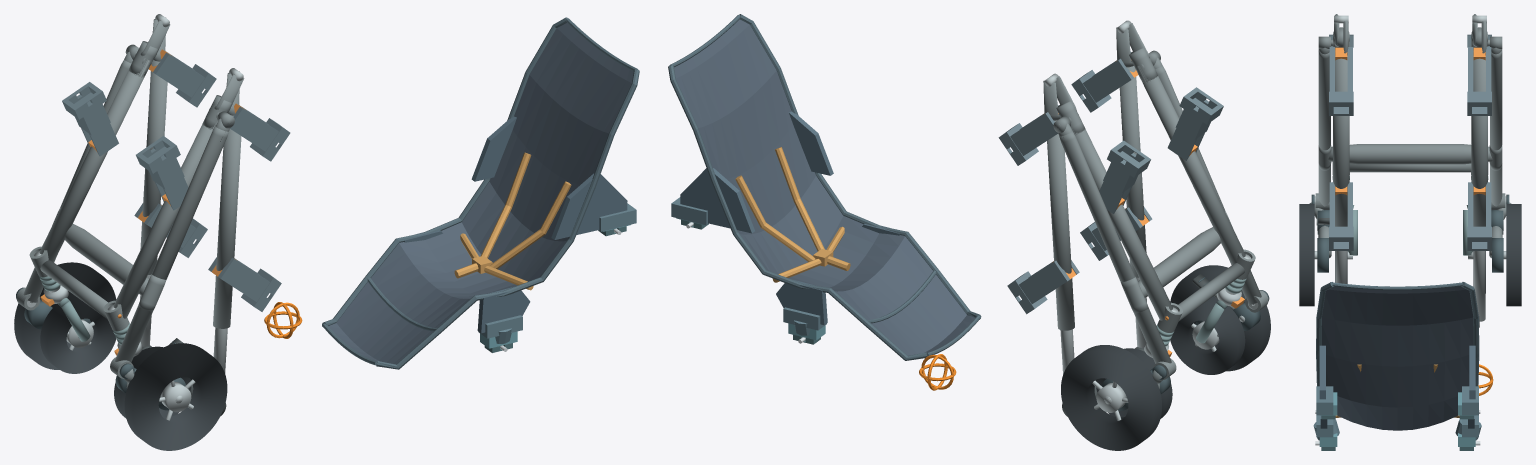
The model's file is S01_w380_state3_wheel_S.glb.
3 views of the same model, side by side, from view 1: azimuth 30°, elevation 25°; view 2: azimuth 150°, elevation 25°; view 3: azimuth 270°, elevation 25° (orthographic). The views are drawn at different scales.
Parts seen in each view (by area): view 1: S01_Cabin, RL_tire.013, V46_rear_leg_-1, FR_tire.013, main_upper_-1.001, main_lower_1.001, main_lower_-1.001, RR_tire.013, Universal_Cabin_Receiver_L_1, Universal_Cabin_Receiver_L_-1, main_upper_1.001, Universal_Cabin_Receiver_H_-1 (+11 smaller); view 2: S01_Cabin, RR_tire.013, V46_rear_leg_1, FL_tire.013, main_upper_1.001, main_lower_-1.001, main_lower_1.001, Universal_Cabin_Receiver_L_-1, Universal_Cabin_Receiver_L_1, main_upper_-1.001, RL_tire.013, Universal_Cabin_Receiver_H_1 (+11 smaller); view 3: S01_Cabin, V46_rearbar, main_upper_1.001, main_upper_-1.001, RL_tire.013, RR_tire.013, V46_rear_leg_1, V46_rear_leg_-1, S01_Cabin_MidDocks, S01_Cabin_Mount_H, Universal_Cabin_Receiver_M_1, Universal_Cabin_Receiver_M_-1 (+12 smaller).
Part boxes in pixels (x1,y1,x2,y2): S01_Cabin: (322, 17, 639, 369); RL_tire.013: (124, 343, 227, 450); V46_rear_leg_-1: (115, 126, 228, 362); FR_tire.013: (40, 294, 116, 373); main_upper_-1.001: (213, 115, 241, 328); main_lower_1.001: (39, 59, 149, 262); main_lower_-1.001: (113, 121, 217, 318); RR_tire.013: (14, 262, 116, 369); Universal_Cabin_Receiver_L_1: (62, 82, 118, 156); Universal_Cabin_Receiver_L_-1: (136, 136, 188, 210); main_upper_1.001: (140, 60, 167, 274); Universal_Cabin_Receiver_H_-1: (208, 257, 281, 311); S01_Cabin: (668, 14, 981, 360); RR_tire.013: (1061, 345, 1161, 450); V46_rear_leg_1: (1059, 131, 1171, 363); FL_tire.013: (1170, 297, 1245, 374); main_upper_1.001: (1047, 120, 1074, 330); main_lower_-1.001: (1137, 66, 1245, 264); main_lower_1.001: (1070, 126, 1172, 320); Universal_Cabin_Receiver_L_-1: (1167, 87, 1223, 160); Universal_Cabin_Receiver_L_1: (1099, 140, 1150, 213); main_upper_-1.001: (1119, 66, 1146, 277); RL_tire.013: (1170, 265, 1270, 371); Universal_Cabin_Receiver_H_1: (1007, 260, 1079, 314); S01_Cabin: (1316, 282, 1479, 430); V46_rearbar: (1328, 144, 1492, 164); main_upper_1.001: (1471, 56, 1487, 226); main_upper_-1.001: (1333, 56, 1349, 226); RL_tire.013: (1299, 204, 1314, 306); RR_tire.013: (1506, 204, 1521, 306); V46_rear_leg_1: (1490, 49, 1502, 206); V46_rear_leg_-1: (1318, 49, 1330, 206); S01_Cabin_MidDocks: (1313, 415, 1481, 450); S01_Cabin_Mount_H: (1315, 386, 1480, 419); Universal_Cabin_Receiver_M_1: (1467, 47, 1491, 115); Universal_Cabin_Receiver_M_-1: (1329, 47, 1353, 115).
Size of the model in its own units: 1.12 by 0.7026 by 0.434.
